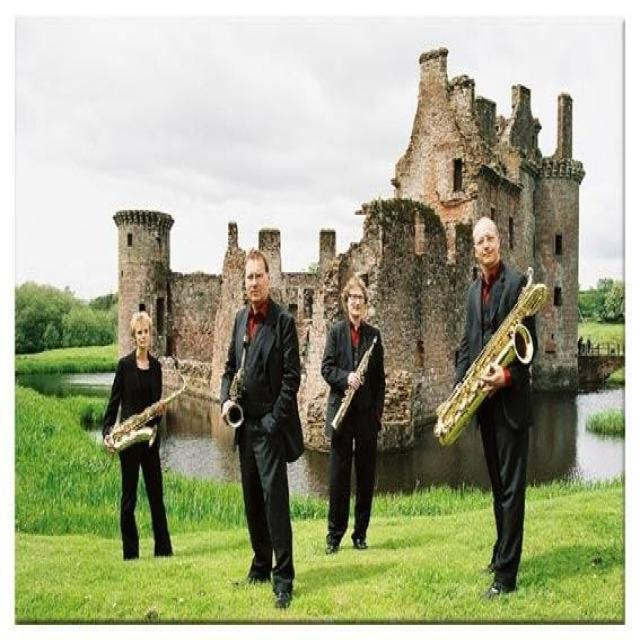saxophone: (432, 279, 551, 449), (103, 360, 191, 459), (222, 332, 256, 430)
